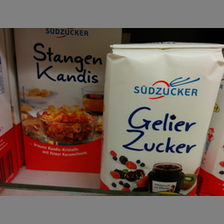tomato_sauce: (100, 40, 224, 192), (13, 28, 123, 173)
